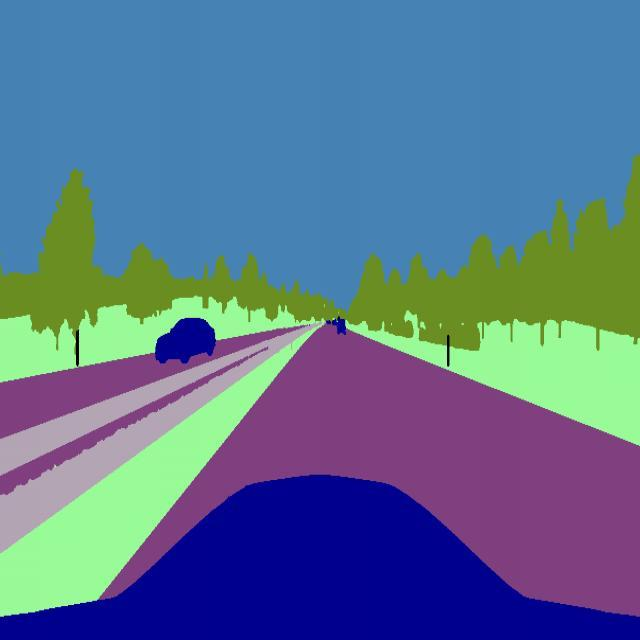safe: (150, 310, 218, 364), (334, 314, 349, 339)
